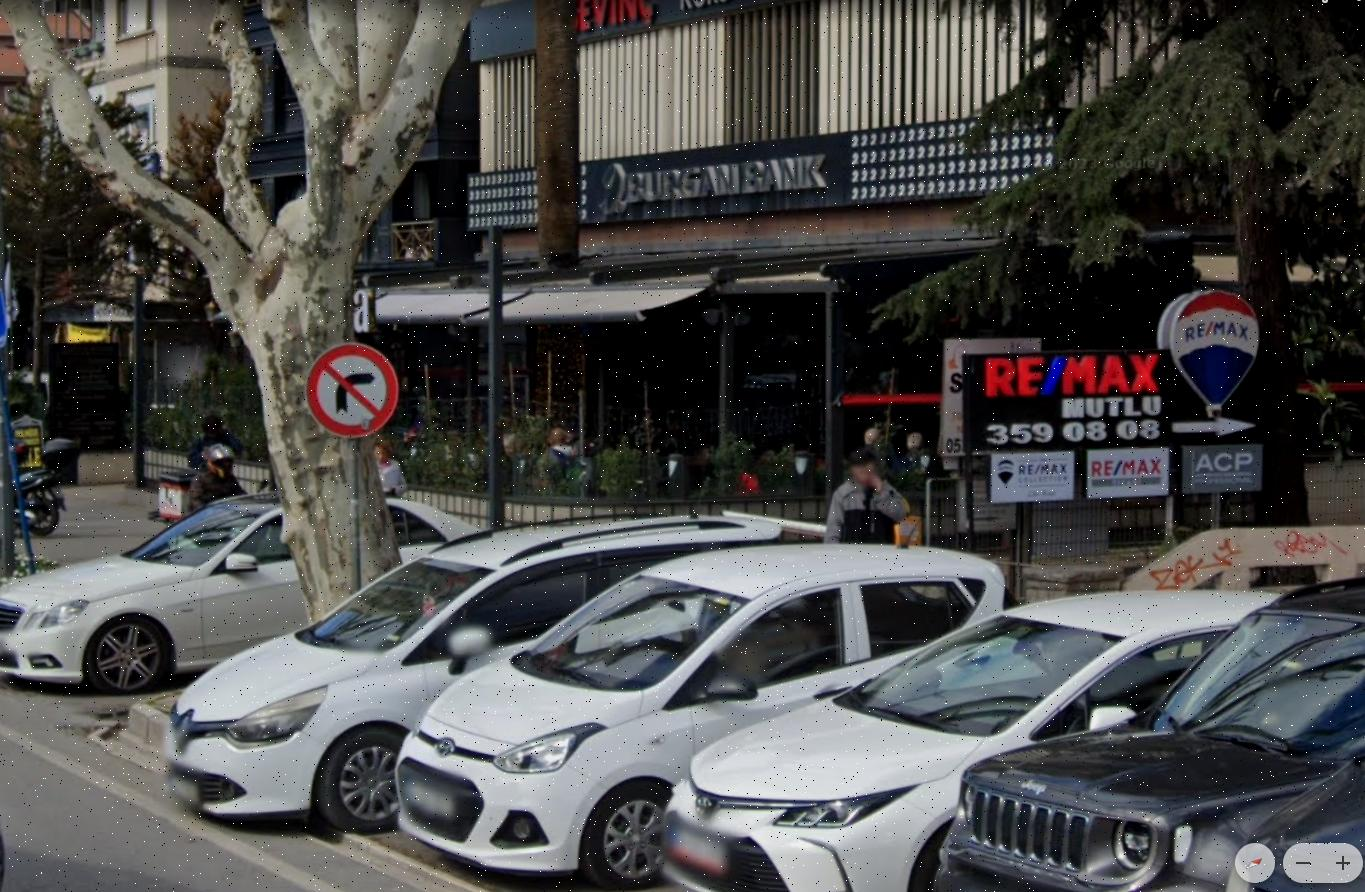rightturnsareforbidden: (309, 344, 395, 435)
